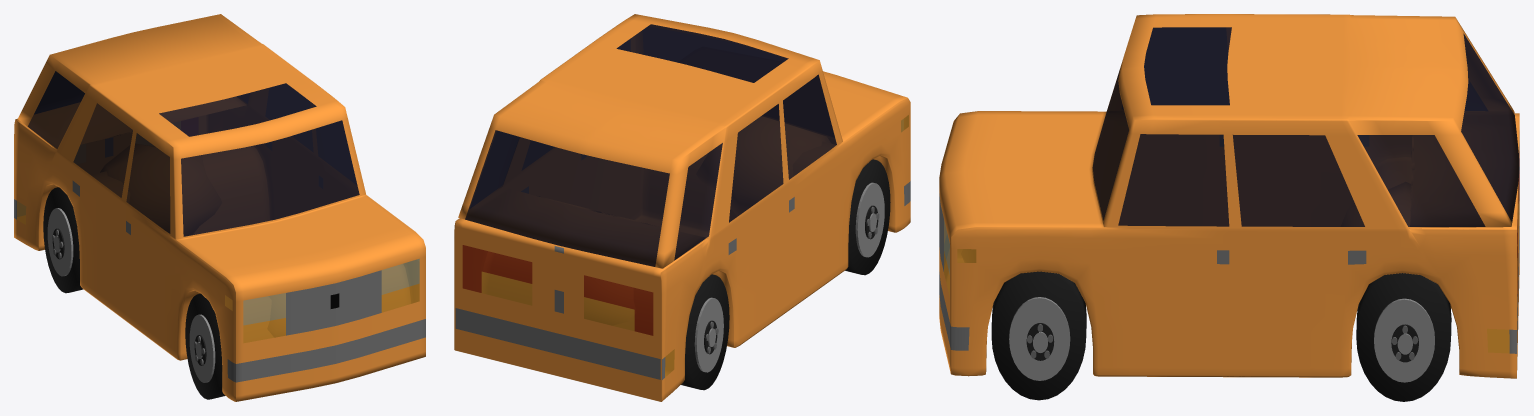
File: car3wagoncmfacing.fbx
The picture shows the model from 3 angles, left to right: view 1: azimuth 30°, elevation 25°; view 2: azimuth 150°, elevation 25°; view 3: azimuth 270°, elevation 25°; orthographic projection. The views are drawn at different scales.
Parts seen in each view (by area): view 1: Car2, LugNut.001, LugNut.002; view 2: Car2, LugNut.002, LugNut.001; view 3: Car2, LugNut.004, LugNut.003.
Part boxes in pixels (x1,y1,x2,y2): Car2: (14, 14, 425, 401); LugNut.001: (185, 293, 225, 399); LugNut.002: (43, 187, 83, 293); Car2: (454, 14, 910, 401); LugNut.002: (681, 274, 729, 390); LugNut.001: (845, 159, 890, 275); Car2: (939, 14, 1519, 378); LugNut.004: (991, 271, 1086, 400); LugNut.003: (1356, 273, 1451, 401).
Bounding box in the file's own units: 189 × 204 × 385.
